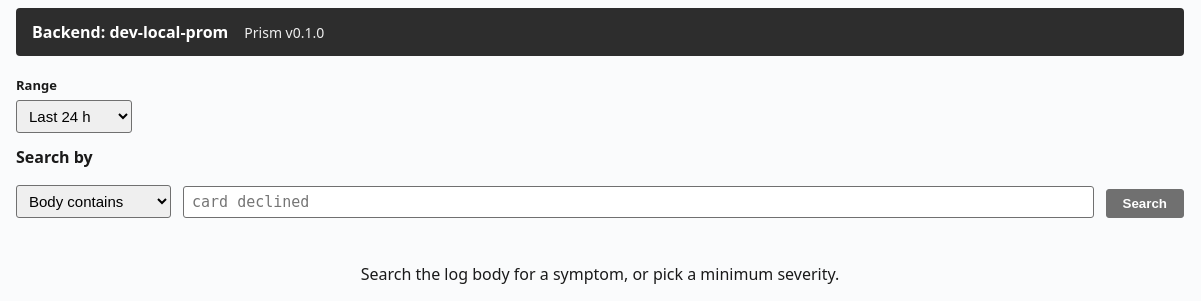
it: Slice 08 search modes — body-contains OR min-severity, never both › shows exactly one mode control at a time — only the body input OR only the severity select
This screenshot has width=1201, height=301.
Expected: the field with test id "log-body-input" is shown, [183, 186, 1094, 218]
Note: Switching to severity shows the severity select and removes the body input.
Select "Minimum severity" in the dropdown with test id "log-search-mode" at [94, 201], box [16, 184, 171, 218]
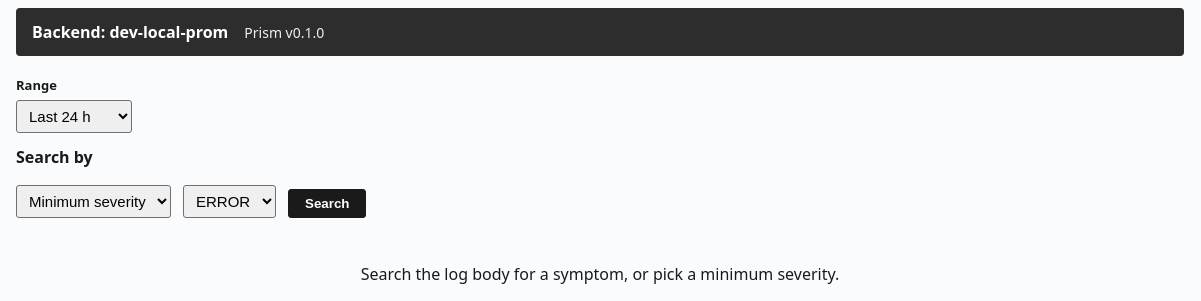
Now the dropdown with test id "log-severity-select" is shown, box [183, 184, 276, 218]
Now the field with test id "log-body-input" is gone
